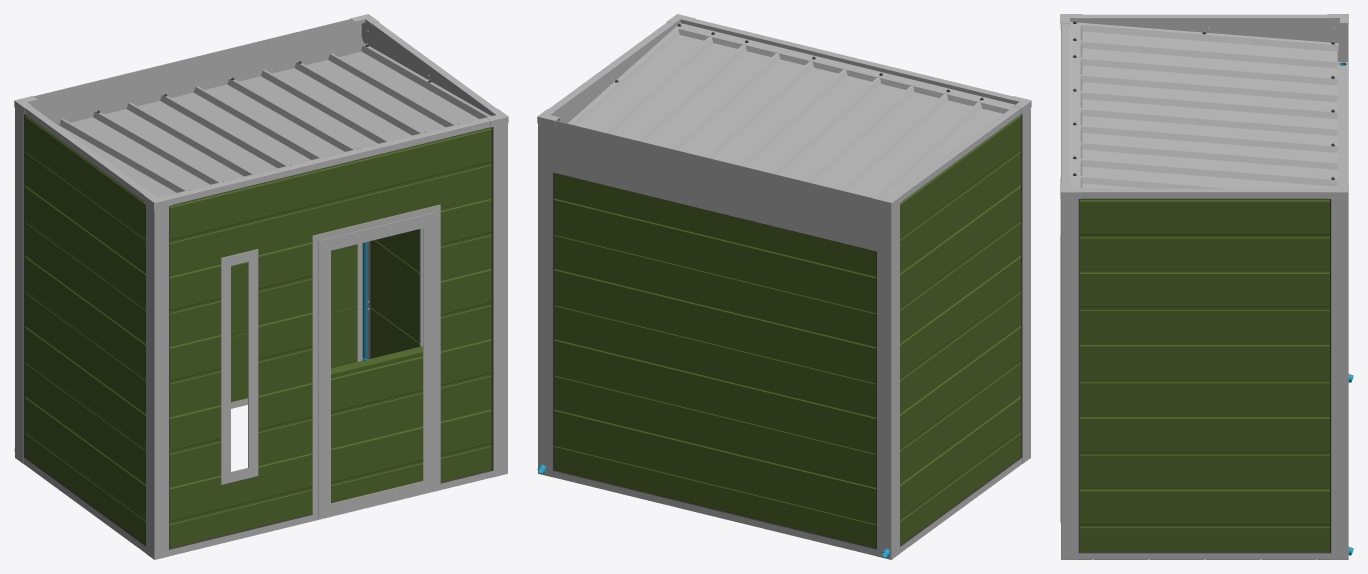
File: garden_house.source.glb
3 renders of one model, left to right at view 1: azimuth 30°, elevation 25°; view 2: azimuth 150°, elevation 25°; view 3: azimuth 270°, elevation 25°, orthographic. The views are drawn at different scales.
Visible parts, largest first — view 1: Solido1 (×46); view 2: Solido1 (×24); view 3: Solido1 (×16).
Part boxes in pixels (x1,y1,x2,y2): Solido1 (×46): (15, 19, 507, 559); Solido1 (×24): (538, 19, 1030, 559); Solido1 (×16): (1061, 14, 1348, 559).
Size of the model in its own units: 2.64 by 2.54 by 1.84.
